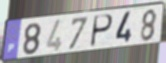4: (114, 10, 135, 46), (45, 18, 64, 54)
7: (69, 15, 90, 51)
8: (139, 8, 158, 43), (23, 22, 42, 56)
P: (89, 13, 114, 49)
